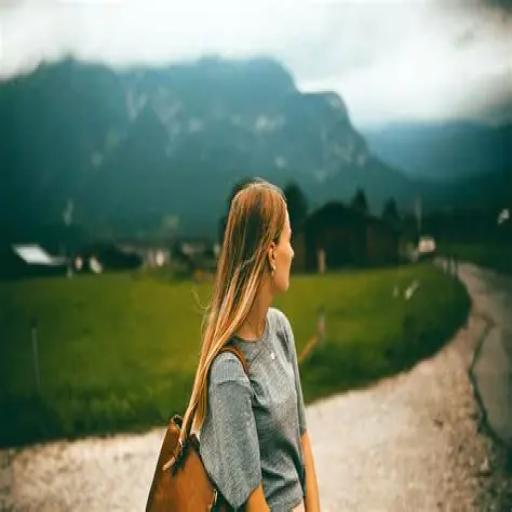person: (182, 178, 324, 510)
truck: (417, 232, 436, 256)
